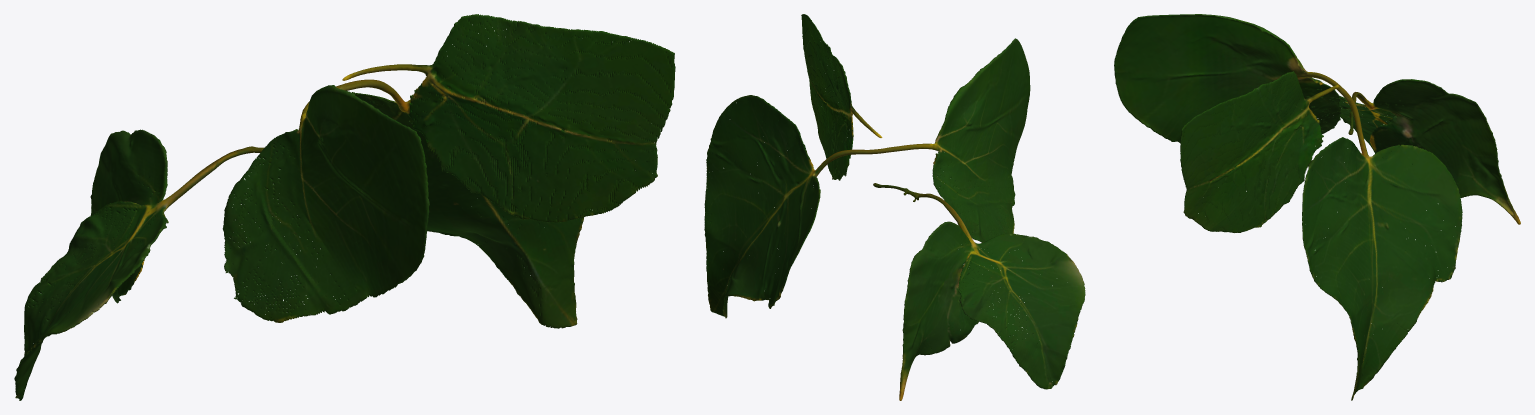
File: leaves_bg.glb
The picture shows the model from 3 angles, left to right: view 1: azimuth 30°, elevation 25°; view 2: azimuth 150°, elevation 25°; view 3: azimuth 270°, elevation 25°; orthographic projection. The views are drawn at different scales.
Visible parts, largest first — view 1: tripo_node_b72db046-f2be-4e23-8505-bdb324d90efa; view 2: tripo_node_b72db046-f2be-4e23-8505-bdb324d90efa; view 3: tripo_node_b72db046-f2be-4e23-8505-bdb324d90efa.
Boxes of the visible parts, <box> form: tripo_node_b72db046-f2be-4e23-8505-bdb324d90efa: <box>14,14,675,400</box>; tripo_node_b72db046-f2be-4e23-8505-bdb324d90efa: <box>704,14,1085,400</box>; tripo_node_b72db046-f2be-4e23-8505-bdb324d90efa: <box>1114,14,1520,400</box>.
Size of the model in its own units: 1 by 0.6234 by 0.8276.
Materials: 1 (1 with a texture image).
